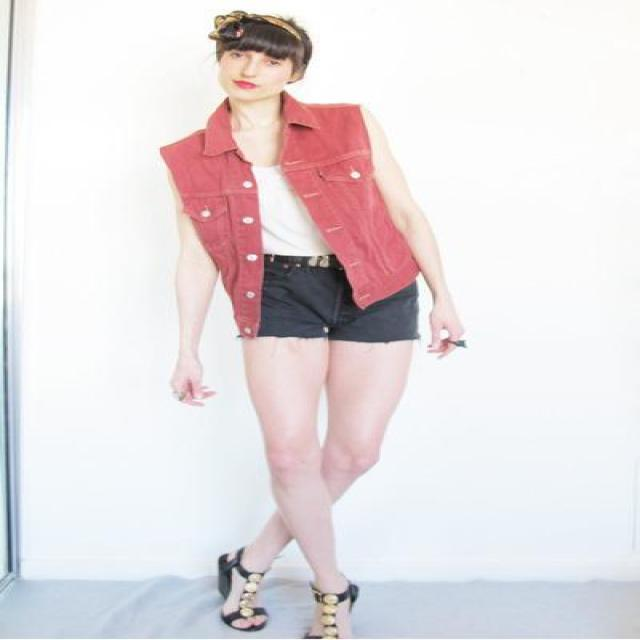jacket: (160, 91, 430, 338)
shirt: (251, 167, 331, 266)
shoe: (218, 550, 356, 630)
shorts: (258, 254, 419, 342)
